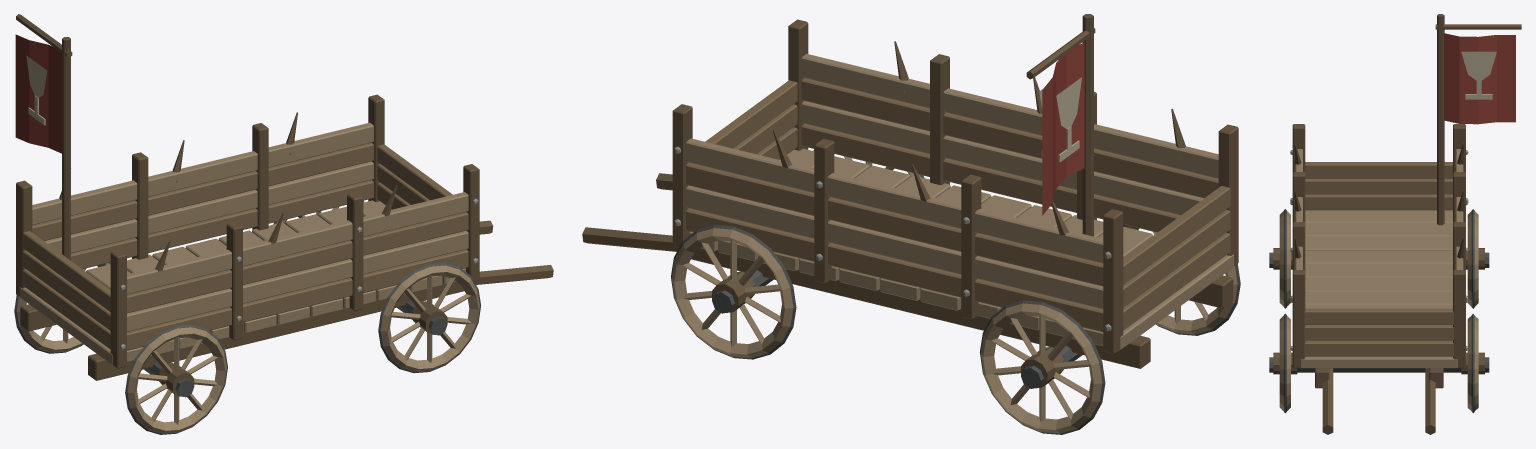
Rendered from war_wagon_crewless.glb.
The picture shows the model from 3 angles, left to right: view 1: azimuth 30°, elevation 25°; view 2: azimuth 150°, elevation 25°; view 3: azimuth 270°, elevation 25°; orthographic projection. The views are drawn at different scales.
Visible parts, largest first — view 1: war_wagon_crewless; view 2: war_wagon_crewless; view 3: war_wagon_crewless.
Part boxes in pixels (bbox=[...]): war_wagon_crewless: bbox=[14, 14, 553, 434]; war_wagon_crewless: bbox=[582, 14, 1240, 434]; war_wagon_crewless: bbox=[1269, 14, 1521, 434].
Bounding box in the file's own units: 5.3 × 3.64 × 2.96.
